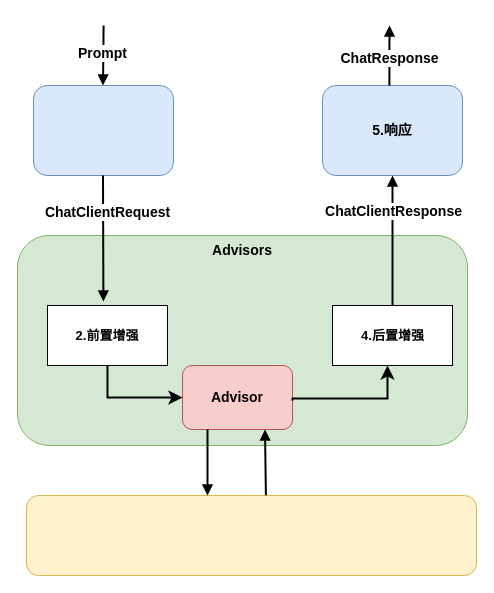
This 494x593 diagram has some shape labels left out. Each missing label, with the centre of its shape:
"1.包含Prompt的请求" belongs at point (103, 130).
"3.大模型" belongs at point (251, 535).
